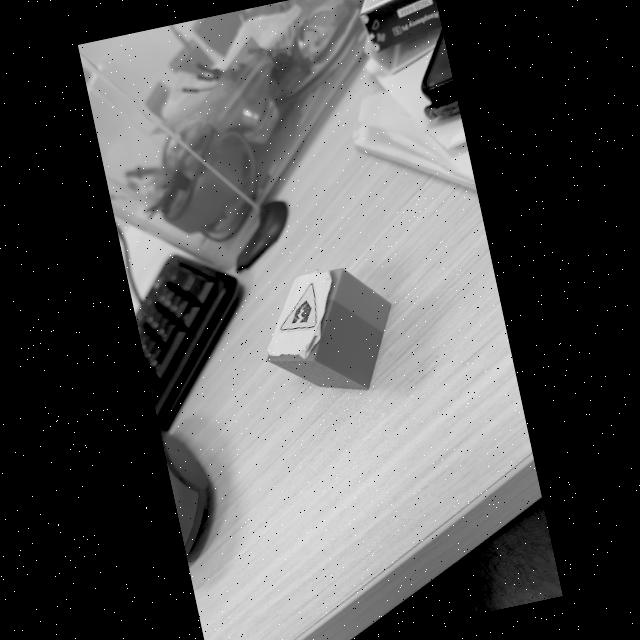Earthquake: (280, 283, 316, 331)
